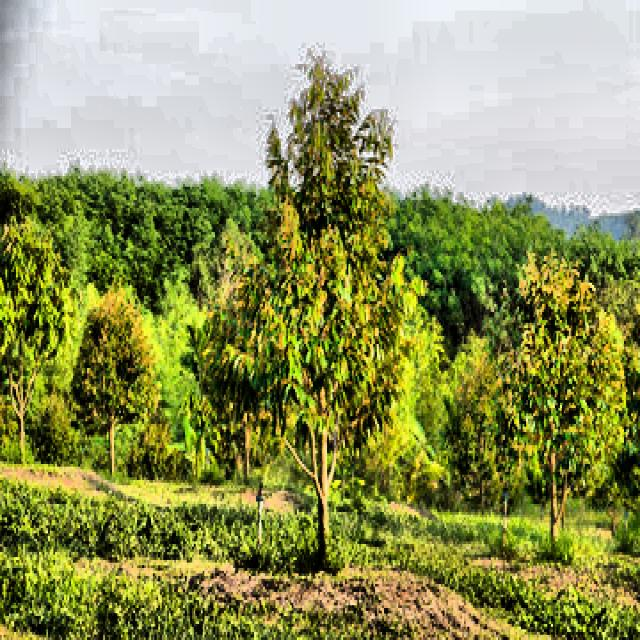arvore: (304, 341, 337, 566), (540, 405, 572, 556), (12, 298, 34, 470)
